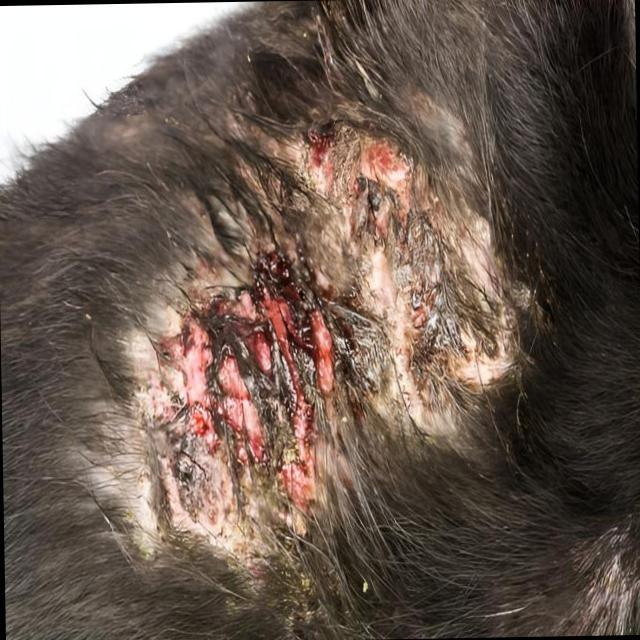allergic dermatitis: (103, 115, 526, 570)
